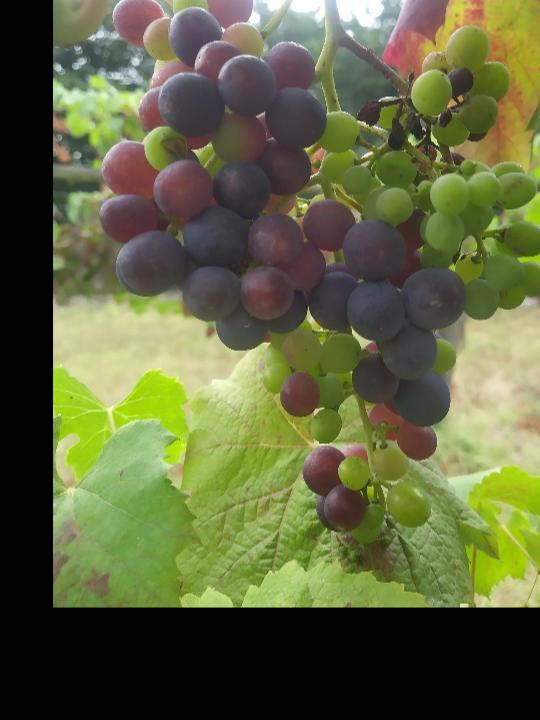grape: (96, 0, 540, 548)
